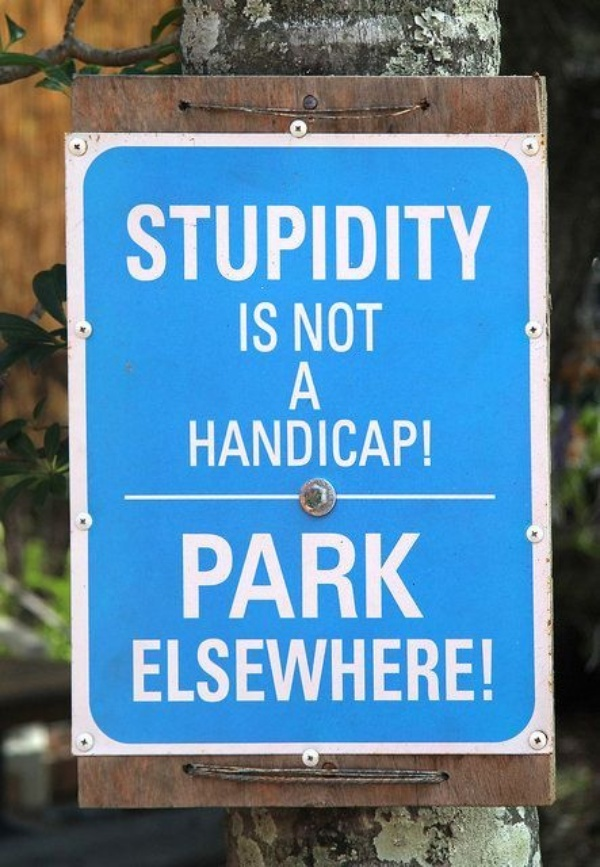text: (193, 529, 208, 624), (209, 529, 224, 624), (225, 529, 240, 624), (241, 529, 256, 624), (257, 529, 272, 624), (273, 529, 288, 624), (289, 529, 304, 624), (305, 529, 320, 624), (321, 529, 336, 624), (337, 529, 352, 624), (353, 529, 368, 624), (369, 529, 384, 624), (385, 529, 400, 624), (401, 529, 416, 624), (129, 198, 144, 290), (145, 198, 160, 290), (161, 198, 176, 290), (177, 198, 192, 290), (193, 198, 208, 290), (209, 198, 224, 290), (225, 198, 240, 290), (241, 198, 256, 290), (257, 198, 272, 290), (273, 198, 288, 290), (289, 198, 304, 290), (305, 198, 320, 290), (321, 198, 336, 290), (337, 198, 352, 290), (353, 198, 368, 290), (369, 198, 384, 290), (385, 198, 400, 290), (401, 198, 416, 290), (417, 198, 432, 290), (433, 198, 448, 290), (449, 198, 464, 290), (465, 198, 480, 290), (481, 198, 496, 290), (179, 529, 192, 624), (129, 636, 144, 705), (145, 636, 160, 705), (161, 636, 176, 705), (177, 636, 192, 705), (193, 636, 208, 705), (209, 636, 224, 705), (225, 636, 240, 705), (241, 636, 256, 705), (257, 636, 272, 705), (273, 636, 288, 705), (289, 636, 304, 705), (305, 636, 320, 705), (321, 636, 336, 705), (337, 636, 352, 705), (353, 636, 368, 705), (369, 636, 384, 705), (385, 636, 400, 705), (401, 636, 416, 705), (417, 636, 432, 705), (433, 636, 448, 705), (449, 636, 464, 705), (465, 636, 480, 705), (481, 636, 496, 705), (241, 299, 256, 357), (257, 299, 272, 357), (305, 300, 320, 354), (321, 300, 336, 354), (337, 300, 352, 354), (353, 300, 368, 354), (369, 300, 384, 354), (193, 418, 208, 469), (209, 418, 224, 469), (225, 418, 240, 469), (241, 418, 256, 469), (257, 418, 272, 469), (273, 418, 288, 469), (289, 418, 304, 469), (305, 418, 320, 469), (321, 418, 336, 469), (337, 418, 352, 469), (353, 418, 368, 469), (369, 418, 384, 469), (385, 418, 400, 469), (401, 418, 416, 469), (417, 418, 432, 469), (290, 300, 304, 354), (305, 362, 320, 412), (417, 529, 424, 624), (273, 299, 284, 357), (294, 362, 304, 412), (186, 418, 192, 469), (321, 362, 327, 412), (385, 300, 387, 354), (497, 198, 498, 290), (497, 636, 498, 705), (239, 299, 240, 357), (433, 418, 434, 469)
